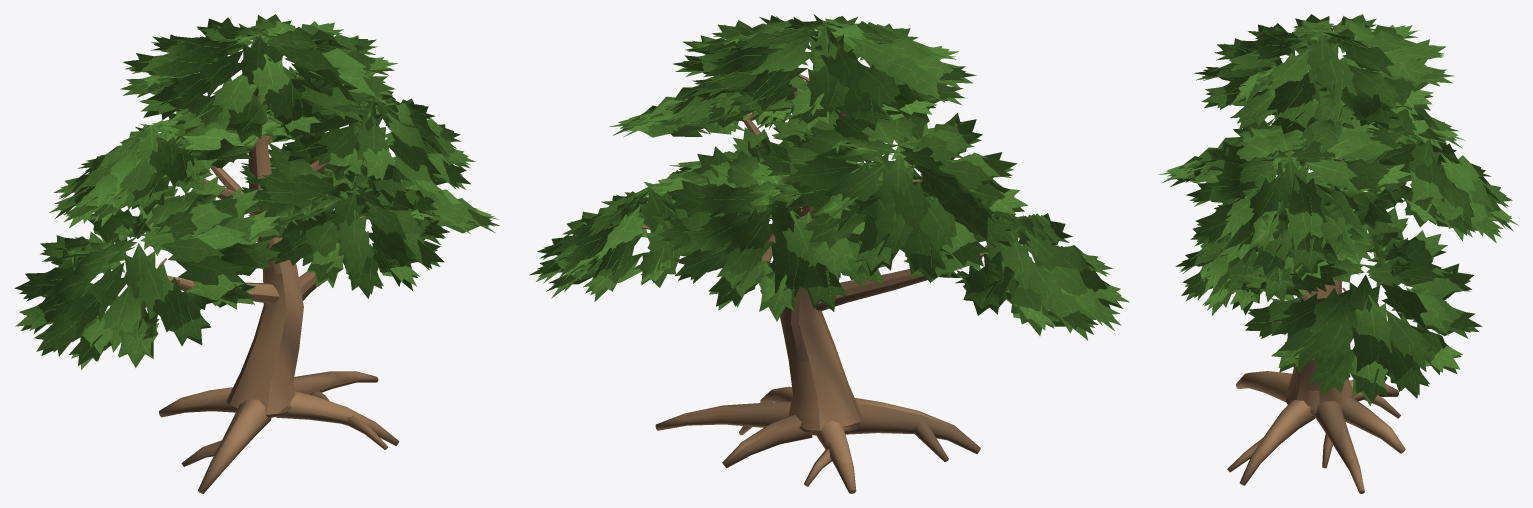
The model's file is Tree_Large.fbx.
3 renders of one model, left to right at view 1: azimuth 30°, elevation 25°; view 2: azimuth 150°, elevation 25°; view 3: azimuth 270°, elevation 25°, orthographic. The views are drawn at different scales.
Parts seen in each view (by area): view 1: Foliage, Trunk_Branches, Roots; view 2: Foliage, Roots, Trunk_Branches; view 3: Foliage, Roots, Trunk_Branches.
Part boxes in pixels (left/top/right/bottom): Foliage: left=14, top=14, right=499, bottom=369; Trunk_Branches: left=157, top=93, right=364, bottom=417; Roots: left=159, top=371, right=399, bottom=493; Foliage: left=529, top=14, right=1129, bottom=340; Roots: left=655, top=386, right=980, bottom=493; Trunk_Branches: left=641, top=74, right=987, bottom=434; Foliage: left=1158, top=14, right=1518, bottom=405; Roots: left=1227, top=371, right=1405, bottom=493; Trunk_Branches: left=1285, top=159, right=1411, bottom=414.
Bounding box in the file's own units: 332 × 262 × 211.
